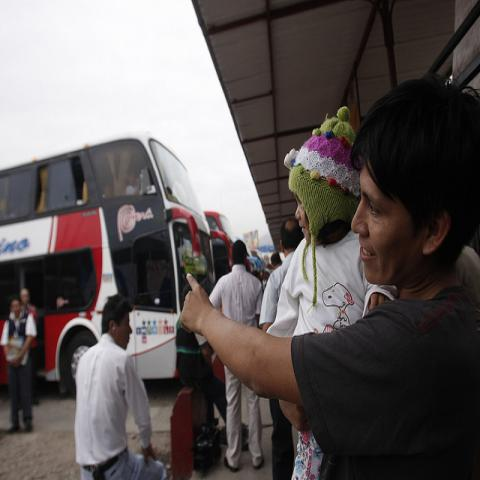bus: (0, 136, 217, 396), (204, 212, 238, 272), (211, 239, 231, 282)
